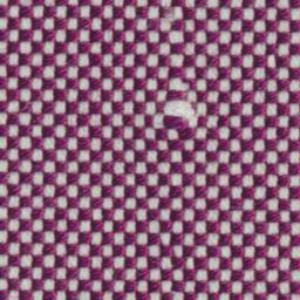defect: (162, 11, 203, 141)
